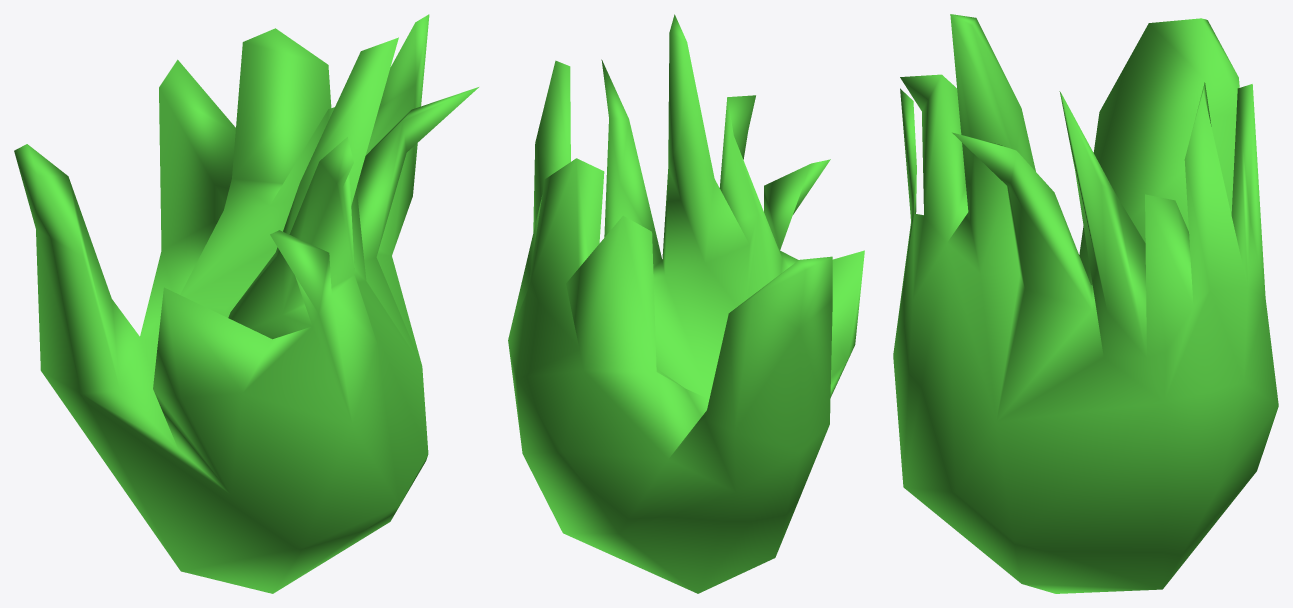
The model's file is grass-e.glb.
The picture shows the model from 3 angles, left to right: view 1: azimuth 30°, elevation 25°; view 2: azimuth 150°, elevation 25°; view 3: azimuth 270°, elevation 25°; orthographic projection. The views are drawn at different scales.
Parts seen in each view (by area): view 1: grass-e; view 2: grass-e; view 3: grass-e.
Boxes of the visible parts, x1,y1,x2,y2 form: grass-e: (14, 14, 478, 593); grass-e: (508, 14, 864, 593); grass-e: (893, 14, 1278, 593).
Bounding box in the file's own units: 2.03 × 3.12 × 1.75.
